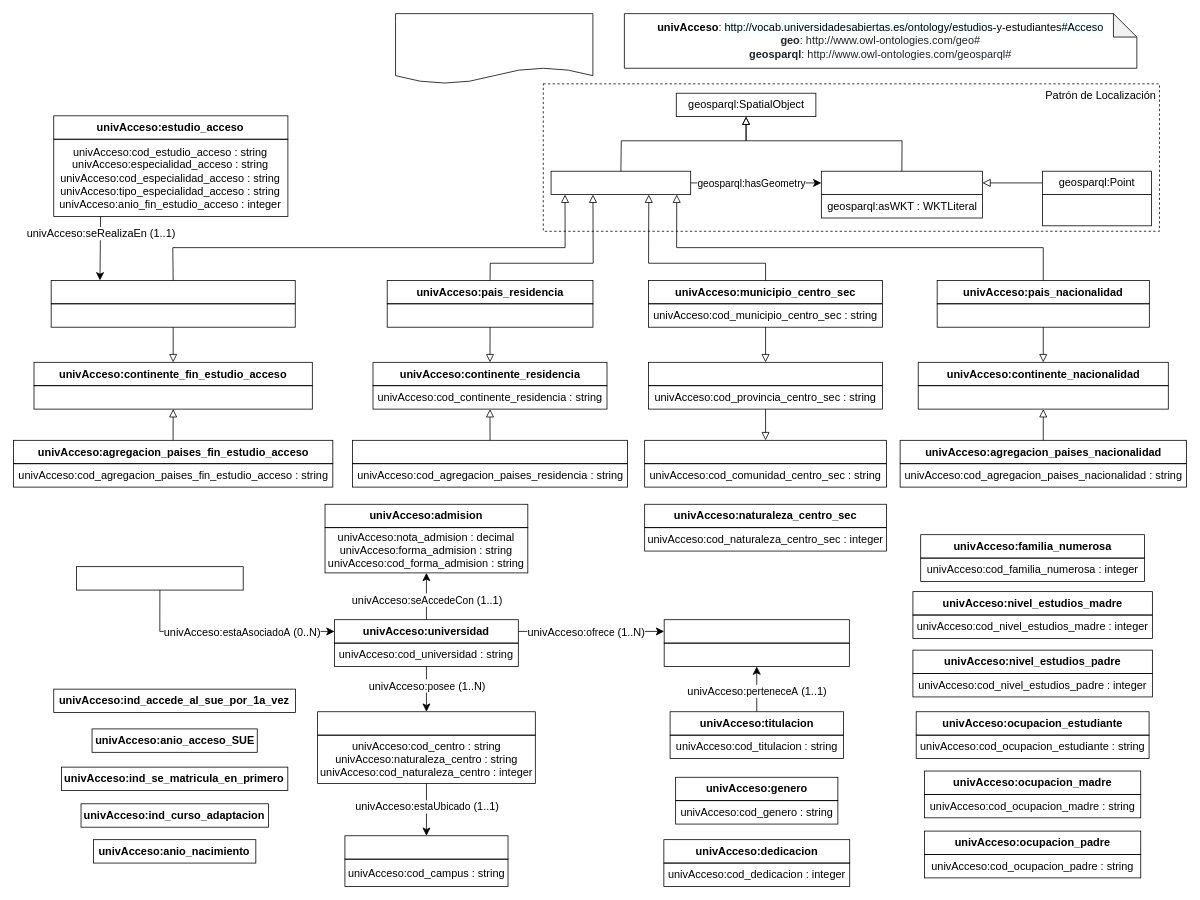
This 1200x900 diagram has some shape labels left out. Here are the shapes that lost their labels. From the top down, the centre of each, then its label:
pixel 494 48: dc:creator: Víctor Morcuende owl:versionInfo: 0.0.1 dc:title: Template Ontology
pixel 620 182: geosparql:Feature
pixel 901 182: geosparql:Geometry
pixel 1097 210: geo:lat : decimal geo:long : decimal
pixel 172 292: univAcceso :pais_fin_estudio_acceso
pixel 172 315: univAcceso :cod_pais_fin_estudio_acceso : string
pixel 489 315: univAcceso :cod_pais_residencia : string
pixel 1042 315: univAcceso :cod_pais_nacionalidad : string
pixel 765 374: univAcceso :provincia_centro_sec
pixel 172 397: univAcceso :cod_continente_fin_estudio_acceso : string
pixel 1042 397: univAcceso :cod_continente_nacionalidad : string
pixel 490 452: univAcceso :agregacion_paises_ residencia
pixel 765 452: univAcceso :comunidad_centro_sec
pixel 159 578: univAcceso :curso_academico
pixel 756 631: univAcceso :tipo_estudio
pixel 756 654: univAcceso:cod_tipo_estudio : string
pixel 426 723: univAcceso :centro
pixel 426 847: univAcceso :campus
